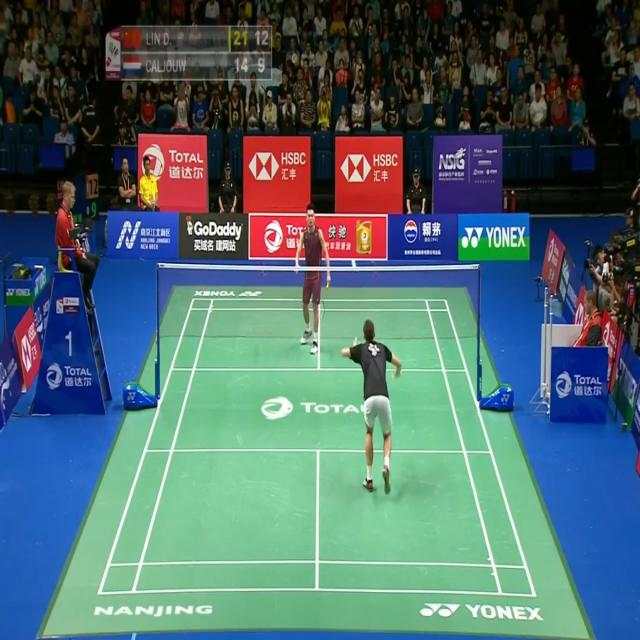Player1: (339, 311, 409, 506)
Player2: (290, 195, 336, 362)
